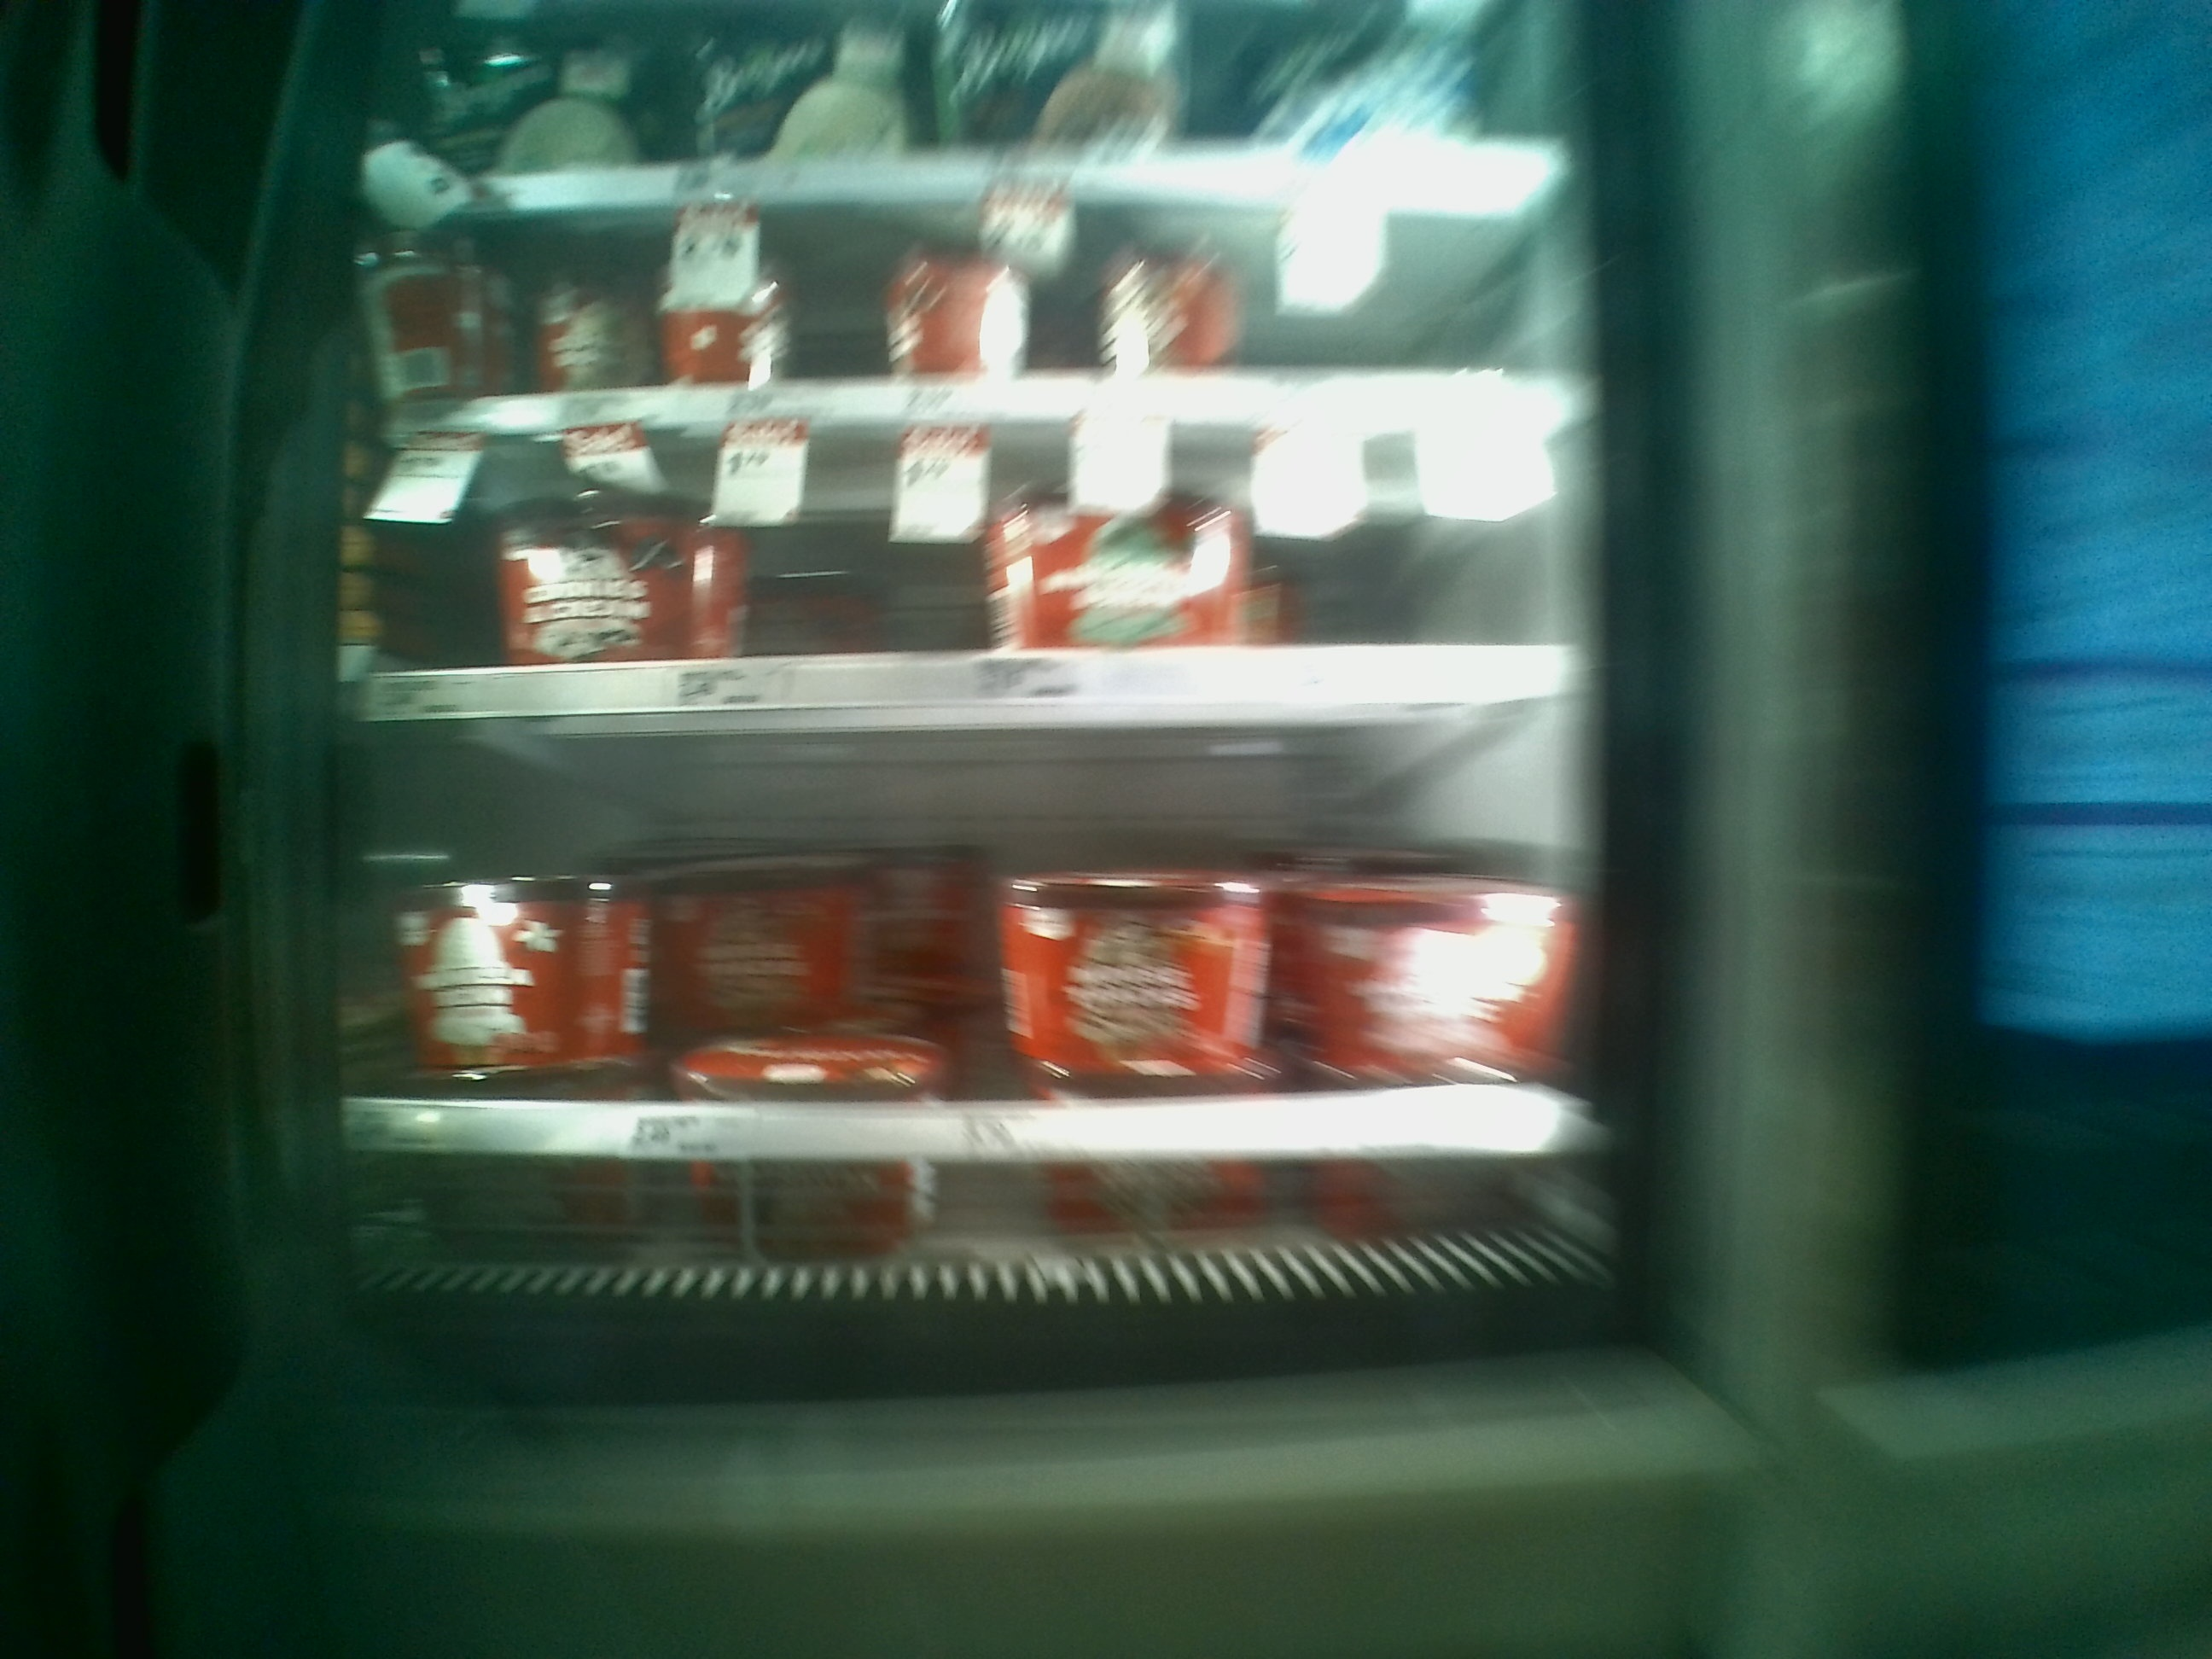shelf: (359, 702, 1609, 1239), (364, 415, 1599, 706), (369, 204, 1599, 415)
